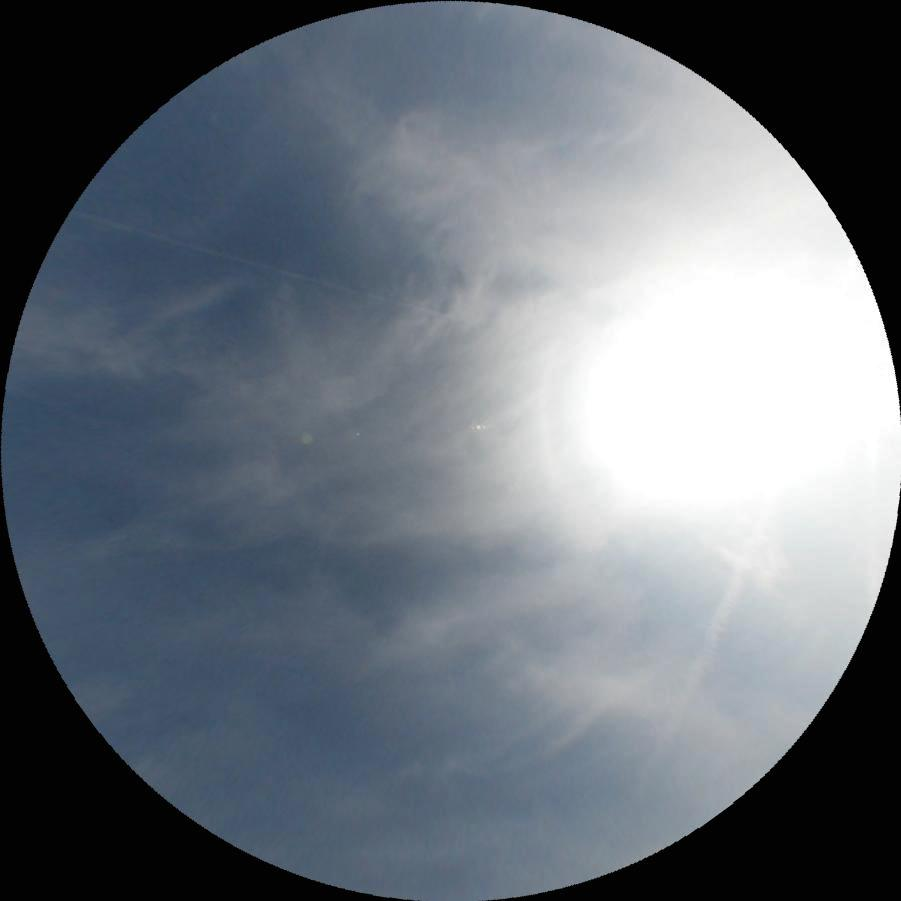contrail old: (636, 527, 772, 775)
contrail young: (70, 208, 457, 322)
sun: (574, 277, 840, 513)
